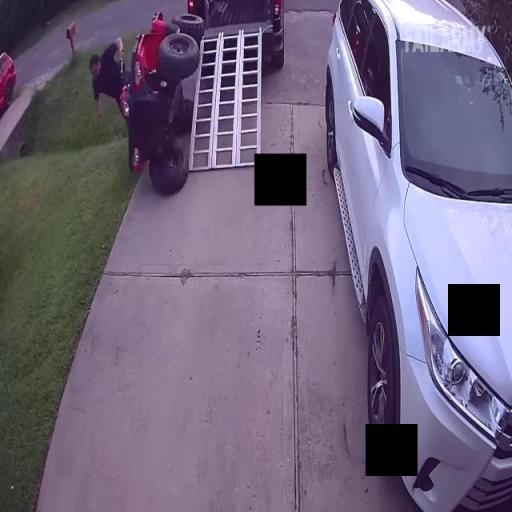Fall: (88, 33, 130, 118)
